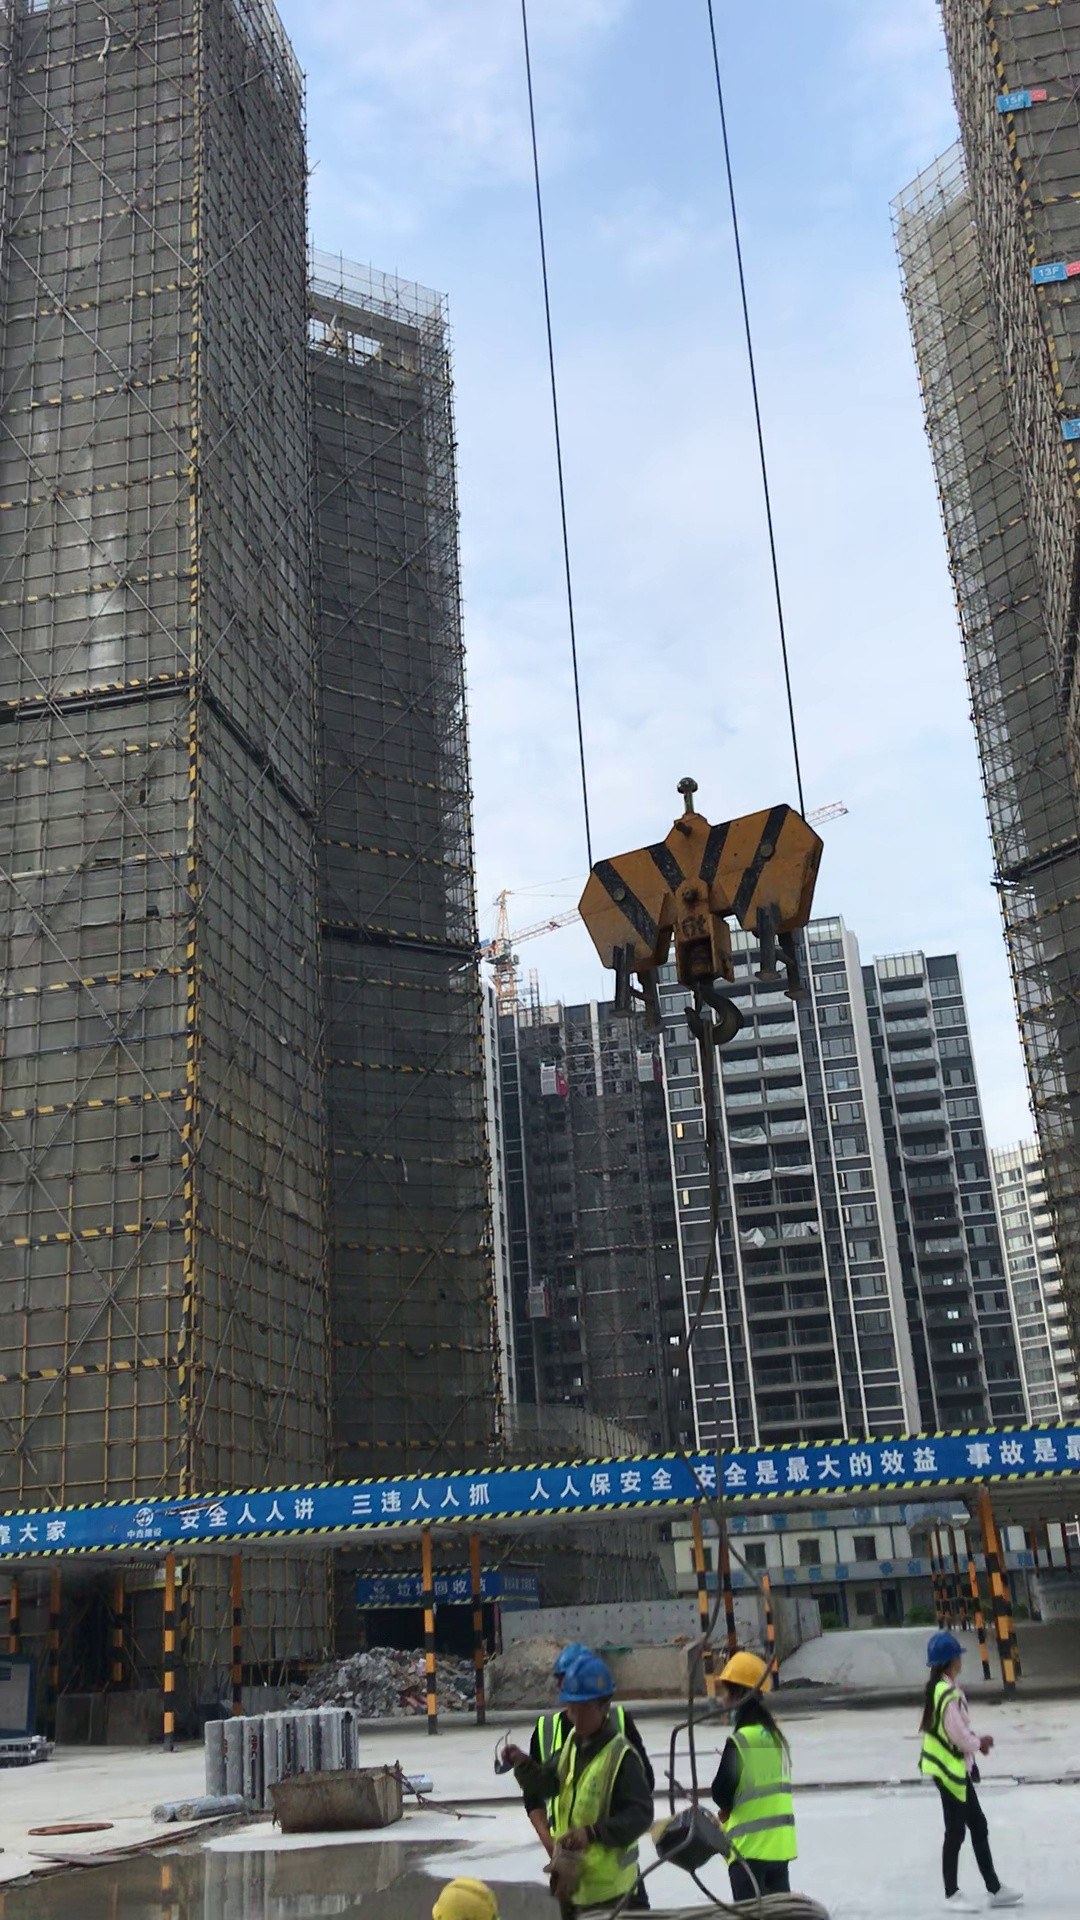helmet: (426, 1866, 503, 1920), (717, 1650, 772, 1695), (563, 1658, 615, 1701), (553, 1639, 600, 1673), (927, 1635, 970, 1668)
hook: (564, 795, 848, 1049)
hopper: (258, 1756, 422, 1835)
person: (911, 1634, 1030, 1912), (548, 1666, 658, 1920), (704, 1647, 807, 1894)
slogan: (20, 1426, 1080, 1547), (367, 1565, 531, 1617)
vest: (558, 1727, 646, 1903), (725, 1725, 799, 1871), (922, 1678, 969, 1806), (535, 1711, 569, 1848)
